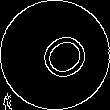O_SW: (21, 22, 89, 88)
